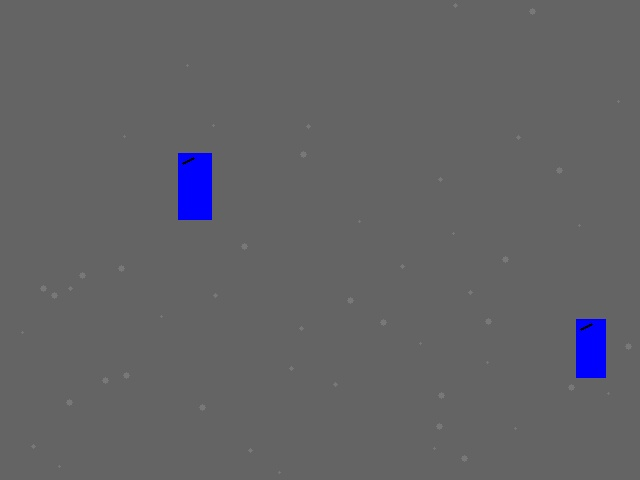motorcycle: (178, 153, 211, 219), (576, 319, 605, 377)
